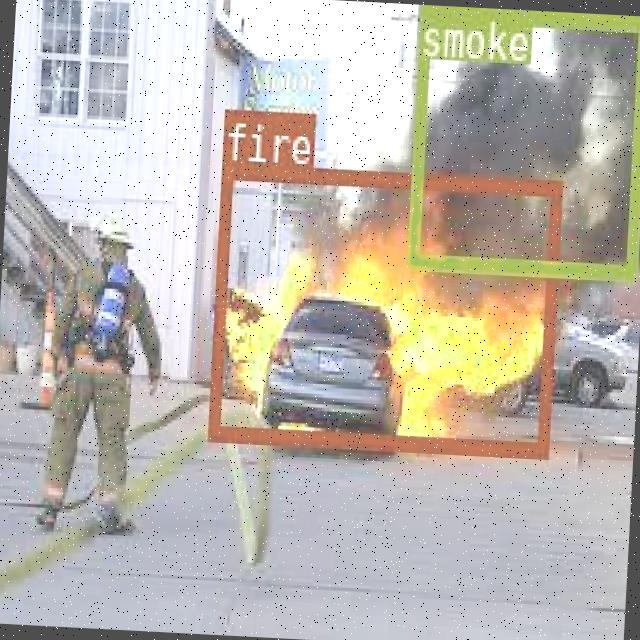fire: (207, 160, 560, 454)
smoke: (406, 4, 640, 275)
